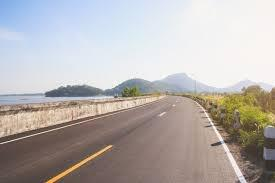road: (0, 96, 237, 182)
